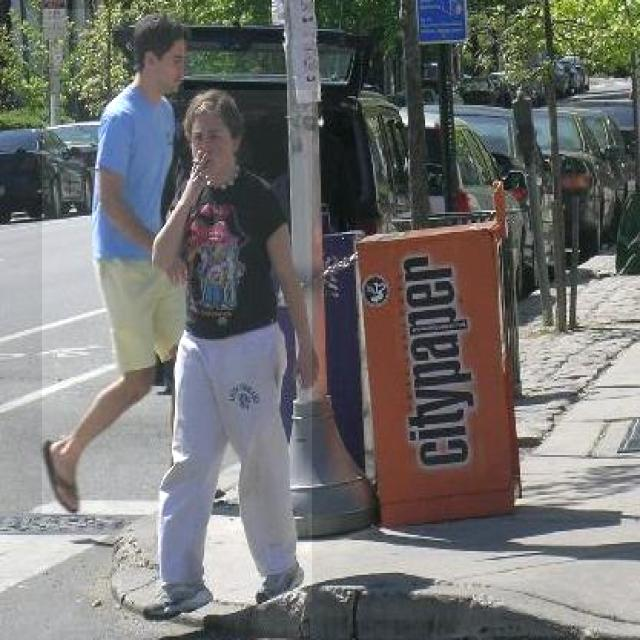with scooter: (156, 90, 312, 602), (42, 9, 184, 514)
